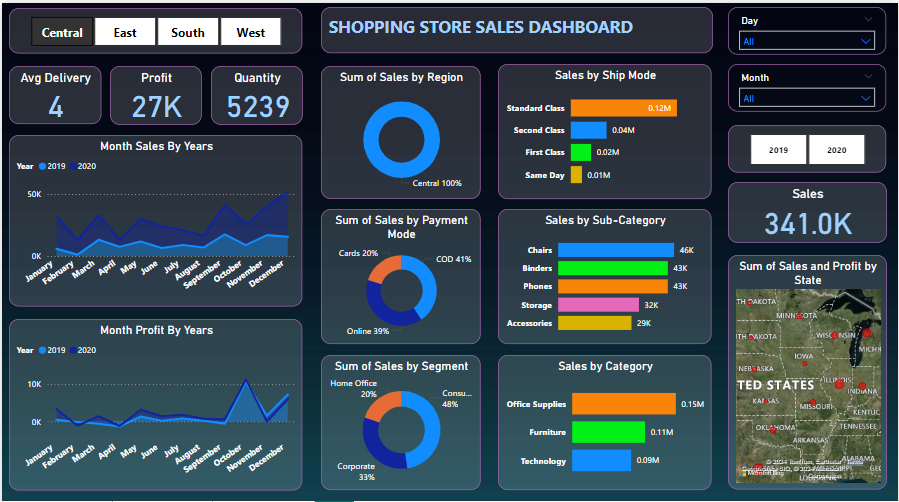

This screenshot's page, from the dashboard's own definition file:
{"tool":"powerbi","page":{"name":"Dashboard","canvas":[1280,720],"ordinal":0},"visuals":[{"type":"clusteredBarChart","title":"Sales by Category","fields":{"Category":["SuperStore_Sales_Dataset.Category"],"Y":["SuperStore_Sales_Dataset.Sales"]},"box":[707.9,503.3,305.3,192.9],"z":0},{"type":"clusteredBarChart","title":"Sales by Sub-Category","fields":{"Y":["SuperStore_Sales_Dataset.Sales"],"Category":["SuperStore_Sales_Dataset.Sub-Category"]},"box":[707.9,293.6,305.3,192.9],"z":1000},{"type":"clusteredBarChart","title":"Sales by Ship Mode","fields":{"Y":["SuperStore_Sales_Dataset.Sales"],"Category":["SuperStore_Sales_Dataset.Ship Mode"]},"box":[707.9,87.2,305.3,192.9],"z":2000},{"type":"stackedAreaChart","title":"Month Sales By Years","fields":{"Y":["SuperStore_Sales_Dataset.Sales"],"Category":["SuperStore_Sales_Dataset.Order Date.Variation.Date Hierarchy.Month","SuperStore_Sales_Dataset.Order Date.Variation.Date Hierarchy.Day"],"Series":["SuperStore_Sales_Dataset.Order Date.Variation.Date Hierarchy.Year"]},"box":[10.1,187.9,419.4,244.9],"z":3000},{"type":"stackedAreaChart","title":"Month Profit By Years","fields":{"Category":["SuperStore_Sales_Dataset.Order Date.Variation.Date Hierarchy.Month","SuperStore_Sales_Dataset.Order Date.Variation.Date Hierarchy.Day"],"Series":["SuperStore_Sales_Dataset.Order Date.Variation.Date Hierarchy.Year"],"Y":["SuperStore_Sales_Dataset.Profit"]},"box":[10.1,451.3,419.4,244.9],"z":4000},{"type":"map","title":"Sum of Sales and Profit by State","fields":{"Category":["SuperStore_Sales_Dataset.State"],"Size":["SuperStore_Sales_Dataset.Sales"]},"box":[1036.7,360,226.7,335],"z":5000},{"type":"donutChart","fields":{"Y":["SuperStore_Sales_Dataset.Sales"],"Category":["SuperStore_Sales_Dataset.Payment Mode"]},"box":[456.3,293.6,228.2,192.9],"z":6000},{"type":"donutChart","fields":{"Category":["SuperStore_Sales_Dataset.Segment"],"Y":["SuperStore_Sales_Dataset.Sales"]},"box":[456.3,503.3,228.2,192.9],"z":7000},{"type":"slicer","fields":{"Values":["SuperStore_Sales_Dataset.Region"]},"box":[10.1,6.7,419.4,65.4],"z":8000},{"type":"textbox","box":[455.3,6.4,559.6,66],"z":9000},{"type":"card","title":"Sales","fields":{"Values":["SuperStore_Sales_Dataset.Sales"]},"box":[1036.7,255,226.7,86.7],"z":10000},{"type":"card","title":"Profit","fields":{"Values":["SuperStore_Sales_Dataset.Profit"]},"box":[154.3,90.6,130.9,83.9],"z":11000},{"type":"card","title":"Quantity","fields":{"Values":["SuperStore_Sales_Dataset.Quantity"]},"box":[298.6,90.6,130.9,83.9],"z":12000},{"type":"card","title":"Avg Delivery ","fields":{"Values":["SuperStore_Sales_Dataset.Avg Delivery Day"]},"box":[10,90,131.7,83.3],"z":13000},{"type":"donutChart","fields":{"Y":["SuperStore_Sales_Dataset.Sales"],"Category":["SuperStore_Sales_Dataset.Region","SuperStore_Sales_Dataset.Payment Mode"]},"box":[456.3,90.6,228.2,189.6],"z":14000},{"type":"slicer","title":"Day","fields":{"Values":["SuperStore_Sales_Dataset.Day"]},"box":[1036.9,6.2,226.2,67.7],"z":15000},{"type":"slicer","fields":{"Values":["SuperStore_Sales_Dataset.Month"]},"box":[1036.9,87.7,226.2,67.7],"z":16000},{"type":"slicer","fields":{"Values":["SuperStore_Sales_Dataset.Year"]},"box":[1036.9,173.8,226.2,67.7],"z":17000}]}

Visuals, with their boxes in screenshot pixels (x1, y1, x2, y2), scaled from the page's 1280x720 canvas onto the 899x502 screenshot:
"Sales by Category" clusteredBarChart: rect(497, 351, 712, 485)
"Sales by Sub-Category" clusteredBarChart: rect(497, 205, 712, 339)
"Sales by Ship Mode" clusteredBarChart: rect(497, 61, 712, 195)
"Month Sales By Years" stackedAreaChart: rect(7, 131, 302, 302)
"Month Profit By Years" stackedAreaChart: rect(7, 315, 302, 485)
"Sum of Sales and Profit by State" map: rect(728, 251, 887, 485)
donutChart - SuperStore_Sales_Dataset.Sales x SuperStore_Sales_Dataset.Payment Mode: rect(320, 205, 481, 339)
donutChart - SuperStore_Sales_Dataset.Segment x SuperStore_Sales_Dataset.Sales: rect(320, 351, 481, 485)
slicer - SuperStore_Sales_Dataset.Region: rect(7, 5, 302, 50)
textbox: rect(320, 4, 713, 50)
"Sales" card: rect(728, 178, 887, 238)
"Profit" card: rect(108, 63, 200, 122)
"Quantity" card: rect(210, 63, 302, 122)
"Avg Delivery " card: rect(7, 63, 100, 121)
donutChart - SuperStore_Sales_Dataset.Sales x SuperStore_Sales_Dataset.Region: rect(320, 63, 481, 195)
"Day" slicer: rect(728, 4, 887, 52)
slicer - SuperStore_Sales_Dataset.Month: rect(728, 61, 887, 108)
slicer - SuperStore_Sales_Dataset.Year: rect(728, 121, 887, 168)
